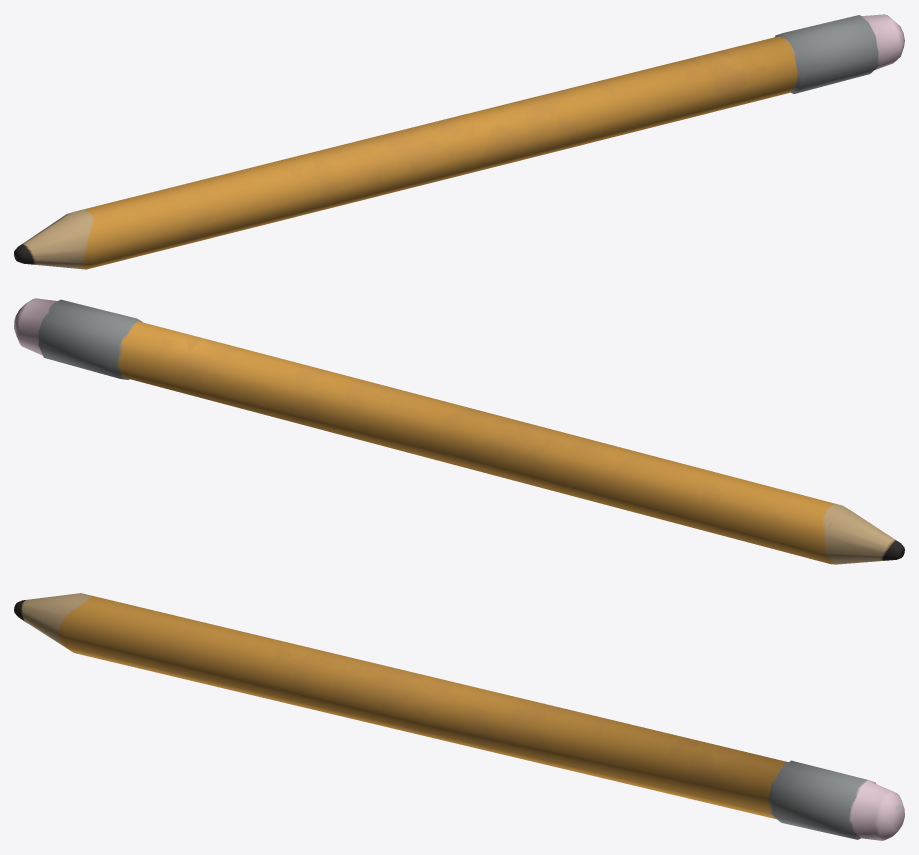
Rendered from Pencil00.fbx.
3 views of the same model, one above another, from view 1: azimuth 30°, elevation 25°; view 2: azimuth 150°, elevation 25°; view 3: azimuth 330°, elevation 25° (orthographic).
Visible parts, largest first — view 1: Pencil00; view 2: Pencil00; view 3: Pencil00.
Boxes of the visible parts, x1,y1,x2,y2 form: Pencil00: (14,14,904,269); Pencil00: (14,298,904,564); Pencil00: (14,593,904,840).
Bounding box in the file's own units: 78.83 × 5.46 × 5.46.
